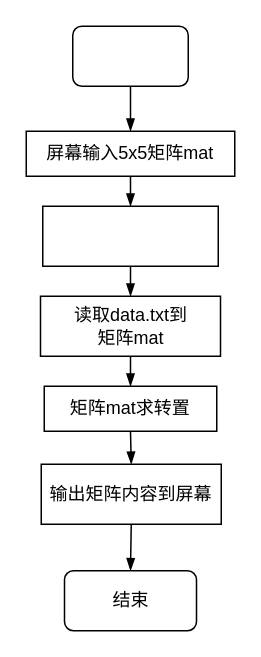
Some shapes in this 261 by 657 pixel diagram are drawn without their labels. The shapes that lost their labels are listed below. From the top down, each one's centre as x and y in pixels, then its label:
the point at 129,55: 开始
the point at 129,235: 写入矩阵mat内容到data.txt
